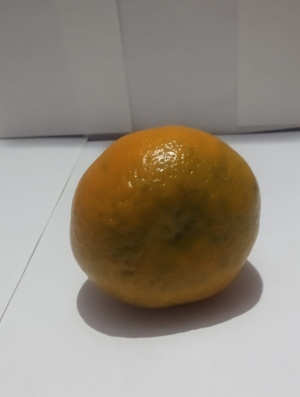BAD: (65, 128, 265, 315)
